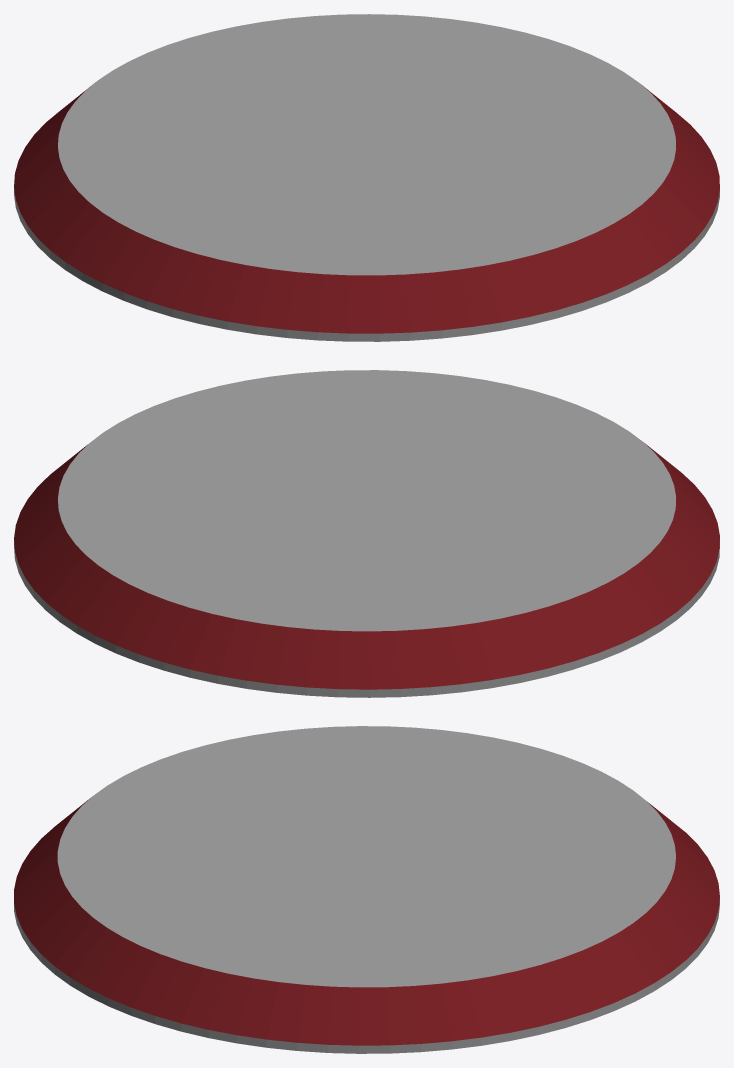
File: TelaportBase.obj
The picture shows the model from 3 angles, top to bottom: view 1: azimuth 30°, elevation 25°; view 2: azimuth 150°, elevation 25°; view 3: azimuth 270°, elevation 25°; orthographic projection.
Parts seen in each view (by area): view 1: Cylinder; view 2: Cylinder; view 3: Cylinder.
Boxes of the visible parts, x1,y1,x2,y2 form: Cylinder: (14, 14, 719, 341); Cylinder: (14, 370, 719, 697); Cylinder: (14, 726, 719, 1053).
Bounding box in the file's own units: 0.7998 × 0.0599 × 0.7996.
Materials: 1 (1 with a texture image).
